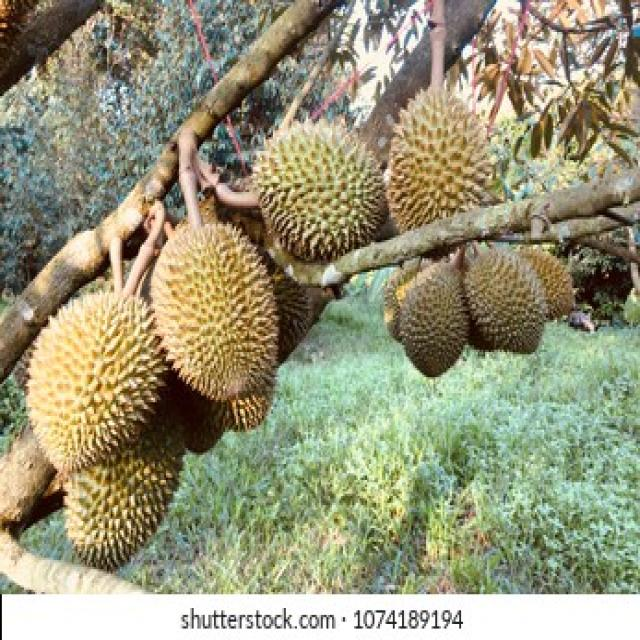mature: (25, 293, 169, 476), (148, 220, 275, 404), (244, 117, 395, 261), (386, 80, 498, 228), (464, 245, 548, 352), (396, 262, 469, 379)
